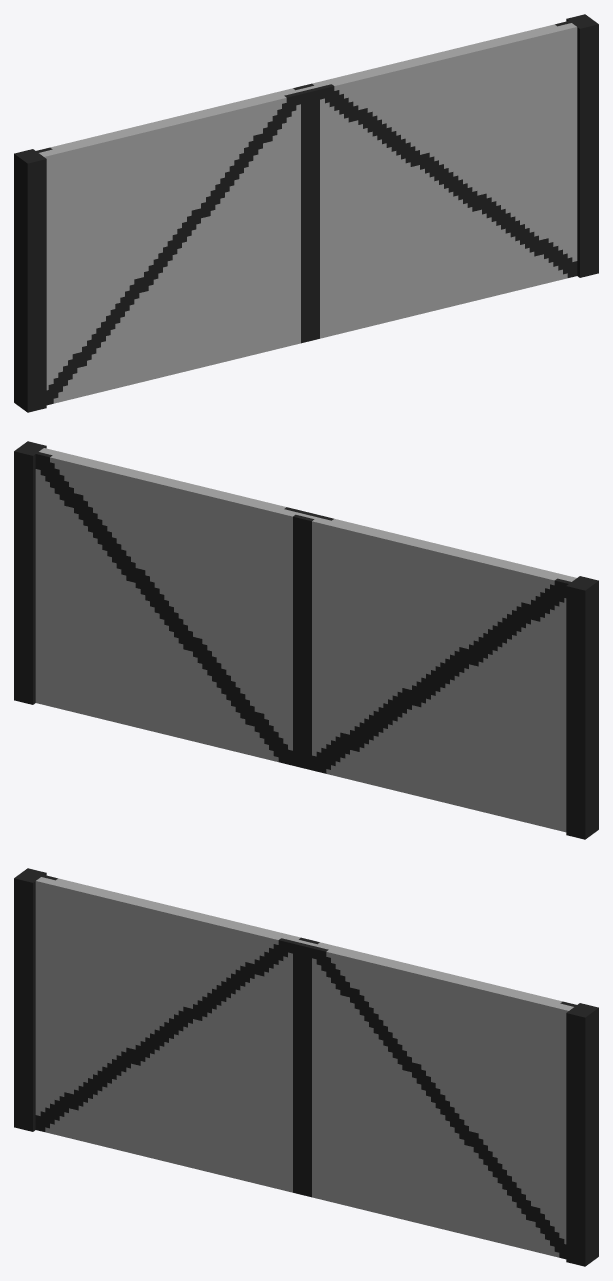
Rendered from Long Wall.obj.
3 renders of one model, top to bottom at view 1: azimuth 30°, elevation 25°; view 2: azimuth 150°, elevation 25°; view 3: azimuth 330°, elevation 25°, orthographic.
Size of the model in its own units: 12 by 5 by 0.5.
1 material, 1 textured.
